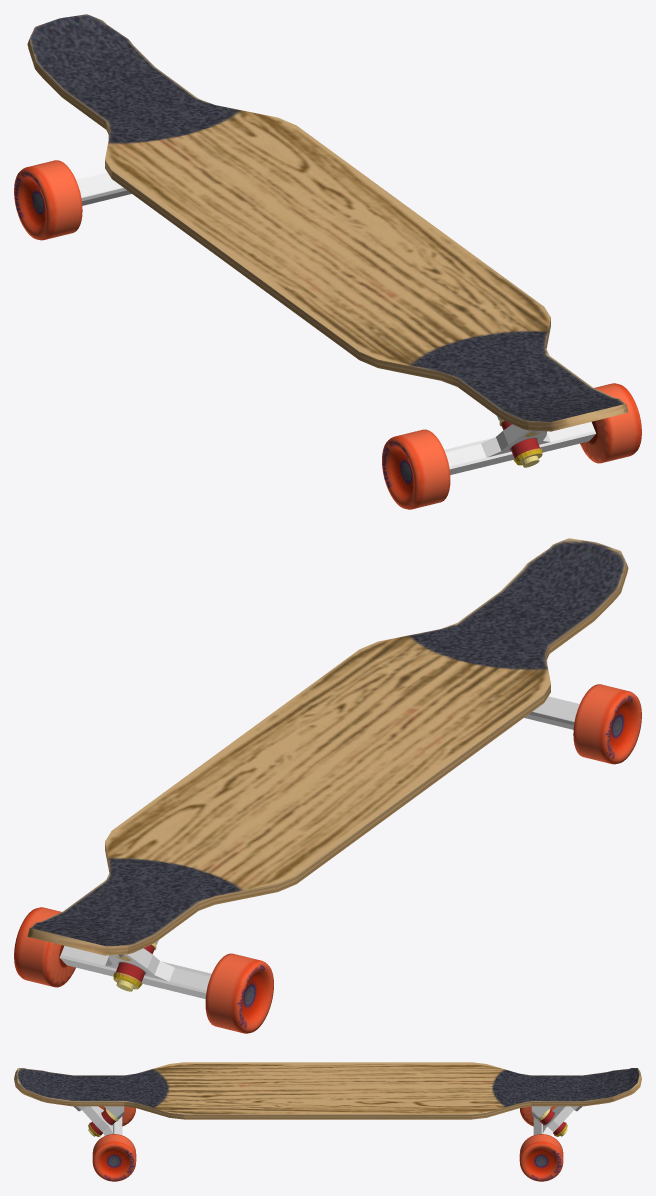
File: longboard_cosmicdancerpro.FBX
3 views of the same model, one above another, from view 1: azimuth 30°, elevation 25°; view 2: azimuth 150°, elevation 25°; view 3: azimuth 270°, elevation 25° (orthographic). The views are drawn at different scales.
Visible parts, largest first — view 1: Deck, Truck, Wheel_2, Wheel_4, Wheel_1; view 2: Deck, Truck, Wheel_4, Wheel_2, Wheel_3; view 3: Deck, Truck, Wheel_1, Wheel_3, Wheel_2, Wheel_4.
Part boxes in pixels (x1=…): Deck: x1=27, y1=14, x2=628, y2=431; Truck: x1=76, y1=135, x2=596, y2=474; Wheel_2: x1=382, y1=429, x2=450, y2=509; Wheel_4: x1=14, y1=160, x2=82, y2=240; Wheel_1: x1=580, y1=383, x2=641, y2=463; Deck: x1=27, y1=538, x2=628, y2=955; Truck: x1=59, y1=659, x2=579, y2=998; Wheel_4: x1=205, y1=953, x2=273, y2=1033; Wheel_2: x1=573, y1=684, x2=641, y2=764; Wheel_3: x1=14, y1=907, x2=75, y2=987; Deck: x1=14, y1=1062, x2=641, y2=1119; Truck: x1=73, y1=1106, x2=582, y2=1136; Wheel_1: x1=92, y1=1134, x2=136, y2=1181; Wheel_3: x1=519, y1=1134, x2=563, y2=1181; Wheel_2: x1=99, y1=1106, x2=135, y2=1126; Wheel_4: x1=520, y1=1106, x2=556, y2=1126.
Bounding box in the file's own units: 27.92 × 15.5 × 116.
Materials: 1 (1 with a texture image).
